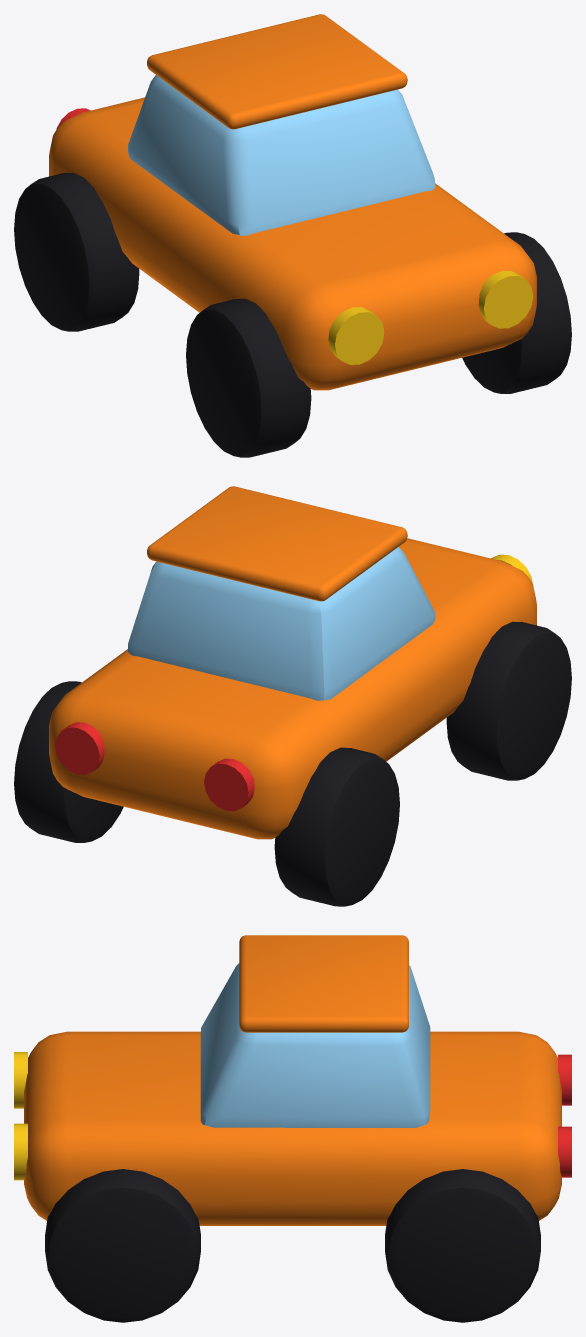
Rendered from car.glb.
3 renders of one model, top to bottom at view 1: azimuth 30°, elevation 25°; view 2: azimuth 150°, elevation 25°; view 3: azimuth 270°, elevation 25°, orthographic.
Parts seen in each view (by area): view 1: car; view 2: car; view 3: car.
Boxes of the visible parts, x1=… form: car: x1=14, y1=14, x2=571, y2=457; car: x1=14, y1=486, x2=571, y2=906; car: x1=14, y1=935, x2=571, y2=1322.
Bounding box in the file's own units: 2.55 × 2.14 × 3.94.
